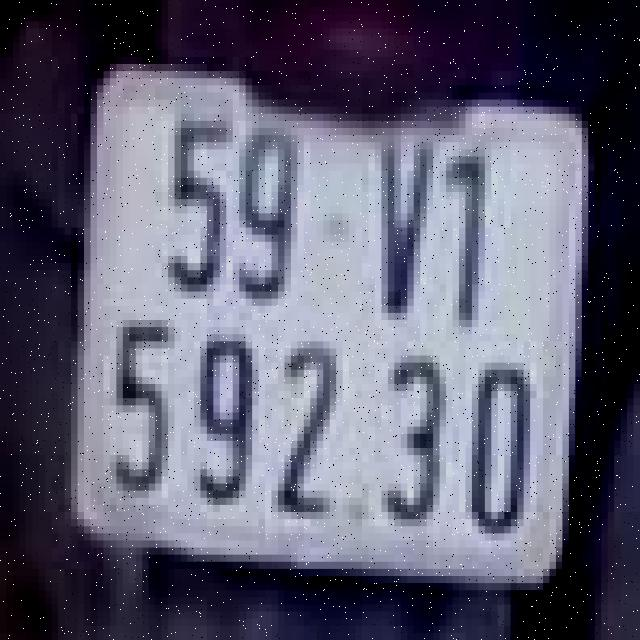0: (466, 356, 536, 548)
1: (440, 138, 498, 330)
2: (265, 323, 356, 537)
3: (372, 345, 449, 544)
5: (100, 316, 178, 502), (158, 114, 236, 298)
9: (236, 114, 301, 306), (188, 331, 258, 508)
V: (366, 124, 436, 323)
